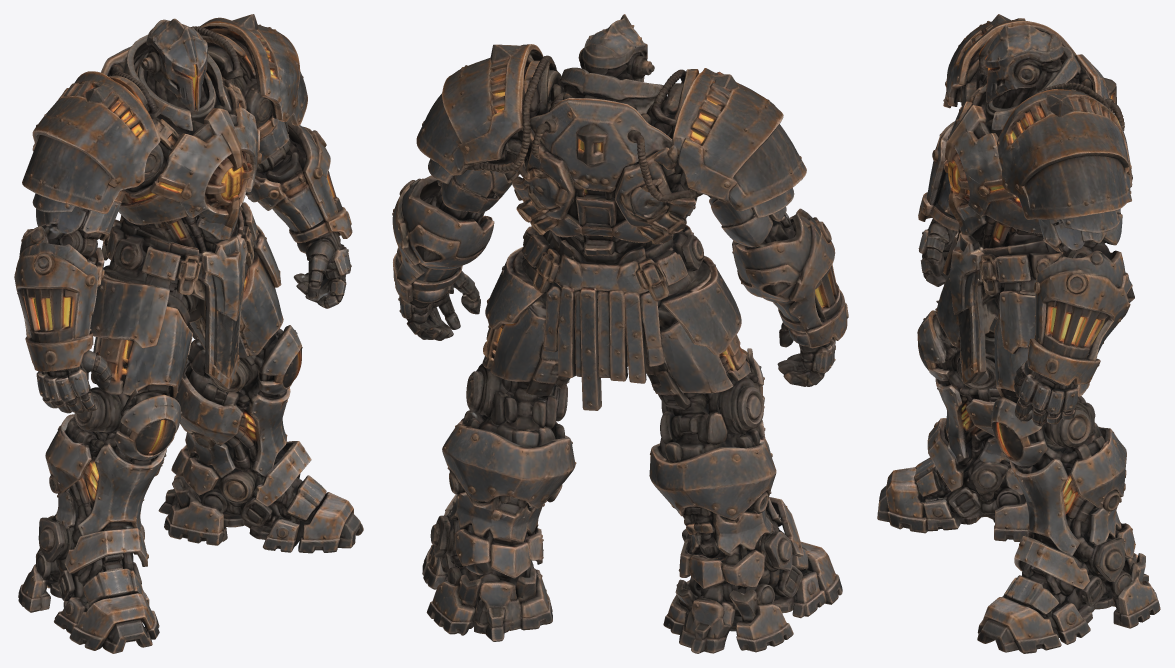
The model's file is ironvex.glb.
3 views of the same model, side by side, from view 1: azimuth 30°, elevation 25°; view 2: azimuth 150°, elevation 25°; view 3: azimuth 270°, elevation 25° (orthographic). The views are drawn at different scales.
Parts seen in each view (by area): view 1: output_unwrapped_0; view 2: output_unwrapped_0; view 3: output_unwrapped_0.
Boxes of the visible parts, x1=… form: output_unwrapped_0: x1=14, y1=14, x2=363, y2=653; output_unwrapped_0: x1=392, y1=14, x2=848, y2=653; output_unwrapped_0: x1=877, y1=14, x2=1160, y2=653.
Bounding box in the file's own units: 1.33 × 1.9 × 0.8954.
Materials: 1 (1 with a texture image).
